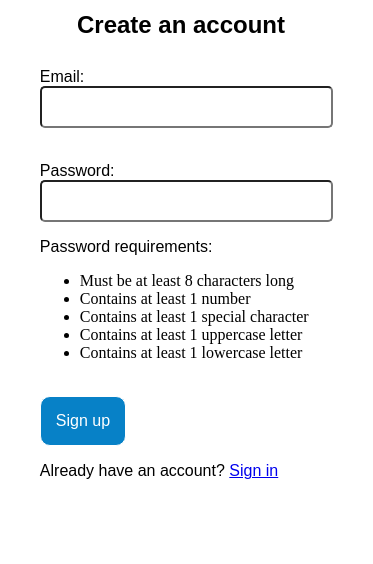
Test: SignUp component › Password input validation › Password must be at least 8 characters long
In the password field with test id "input-password": (186, 201) [40,180,333,222], type "test12"
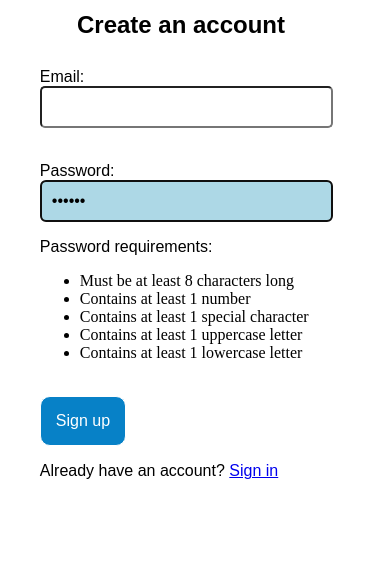
Click the button "Sign up": (83, 421) [40,396,126,446]
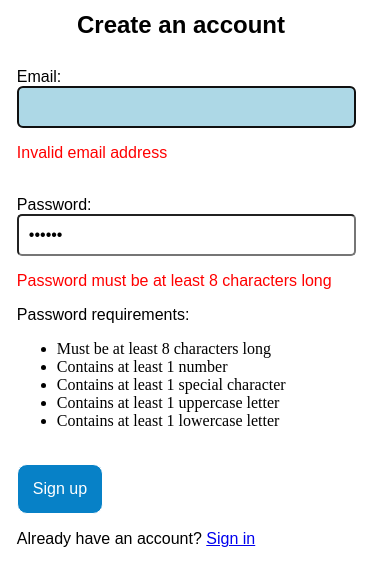
Now the text "Password must be at least 8 characters long" is shown, box [17,272,332,290]
